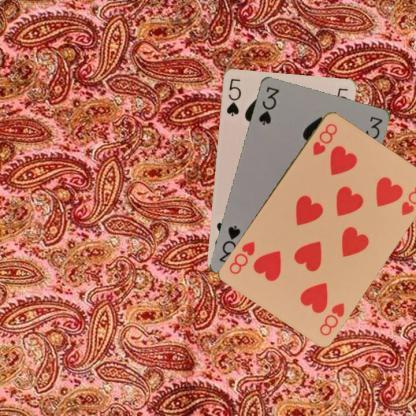3s: (256, 83, 280, 127)
5s: (224, 76, 242, 116)
8h: (316, 300, 346, 337), (310, 120, 338, 157)
